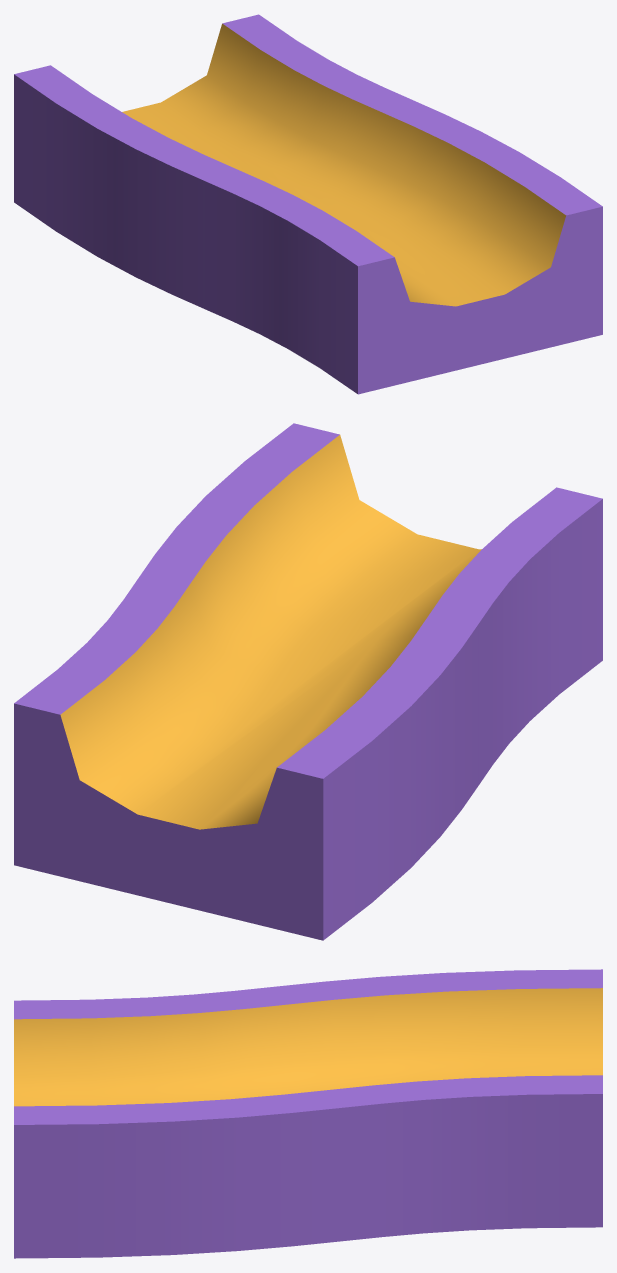
The model's file is kenney-marble-s-curve-short-left-a.glb.
3 views of the same model, one above another, from view 1: azimuth 30°, elevation 25°; view 2: azimuth 150°, elevation 25°; view 3: azimuth 270°, elevation 25° (orthographic). The views are drawn at different scales.
Visible parts, largest first — view 1: s-curve-short-left-a; view 2: s-curve-short-left-a; view 3: s-curve-short-left-a.
Part boxes in pixels (bbox=[...]): s-curve-short-left-a: bbox=[14, 14, 602, 394]; s-curve-short-left-a: bbox=[14, 423, 602, 940]; s-curve-short-left-a: bbox=[14, 969, 602, 1258].
Size of the model in its own units: 1.25 by 0.5001 by 2.
Materials: 1 (1 with a texture image).
